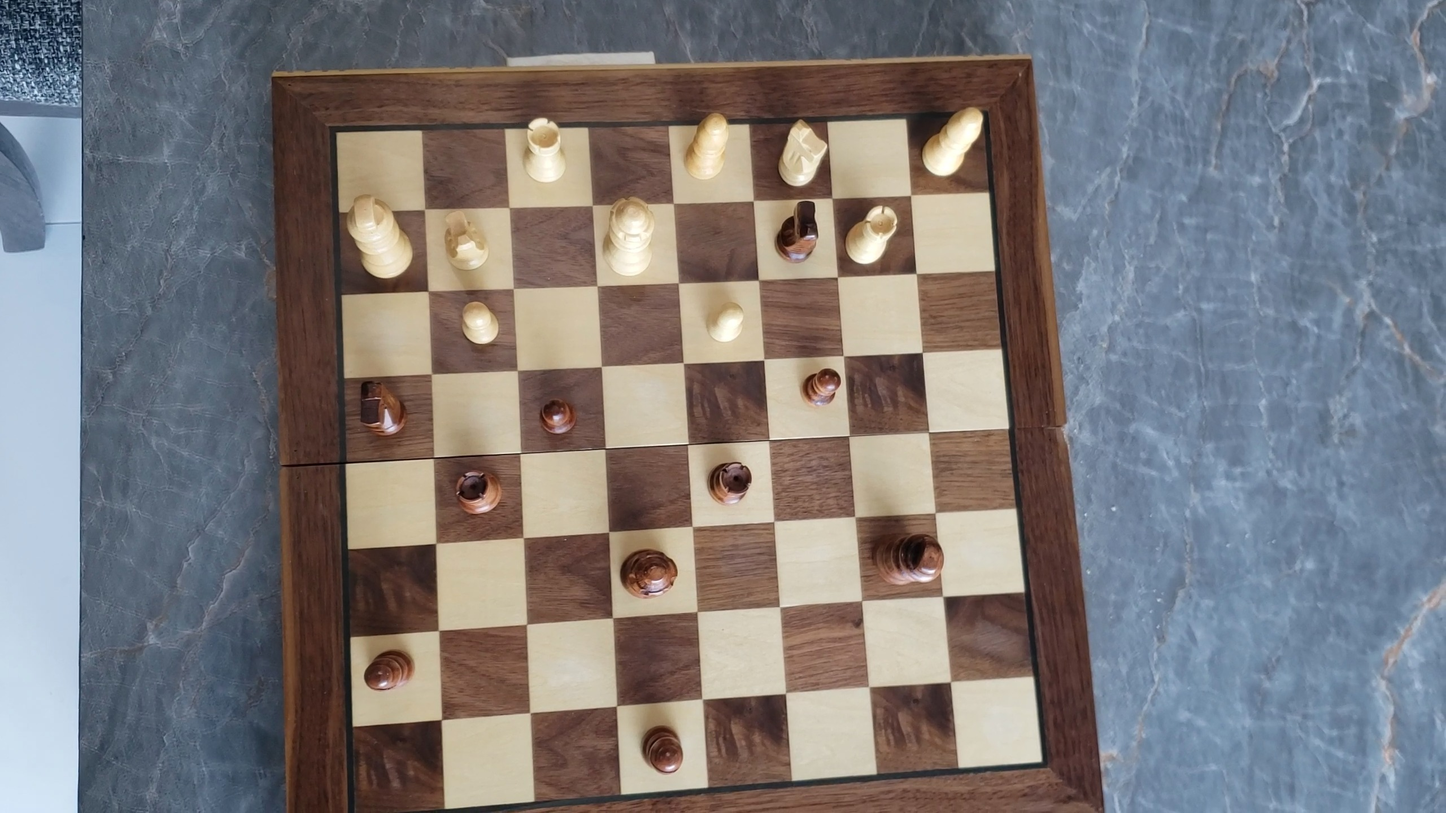black-bishop: (361, 645, 416, 693), (638, 723, 686, 776)
black-king: (865, 513, 950, 599)
black-knight: (352, 380, 419, 445), (772, 202, 825, 265)
black-pawn: (800, 365, 843, 408), (538, 395, 578, 436)
black-queen: (614, 539, 678, 614)
black-rook: (451, 452, 507, 527), (709, 458, 750, 509)
white-bishop: (918, 102, 996, 192), (682, 108, 733, 183)
white-king: (343, 189, 415, 280)
white-knight: (772, 117, 829, 198), (441, 207, 492, 274)
white-pawn: (456, 297, 505, 348), (704, 298, 750, 346)
white-queen: (594, 188, 665, 291)
white-rook: (844, 201, 901, 269), (522, 119, 566, 189)
